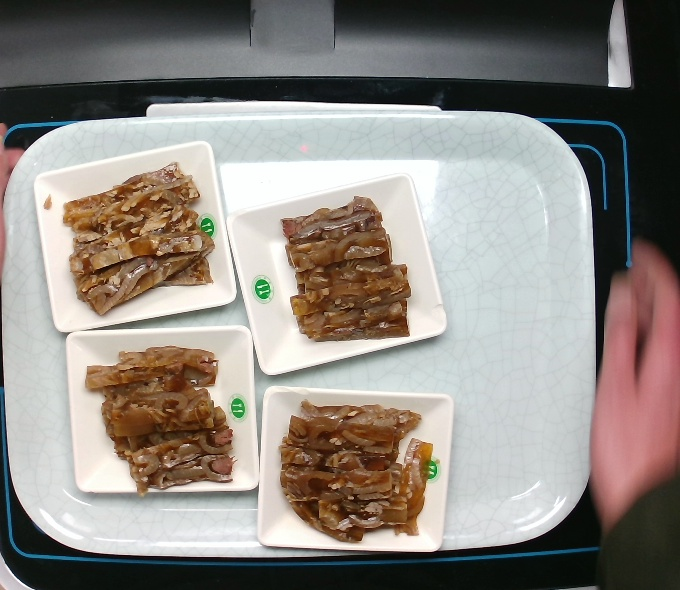wcq-DongZhuPi: (38, 157, 217, 317), (81, 342, 239, 498), (276, 393, 437, 545), (277, 191, 417, 345)
